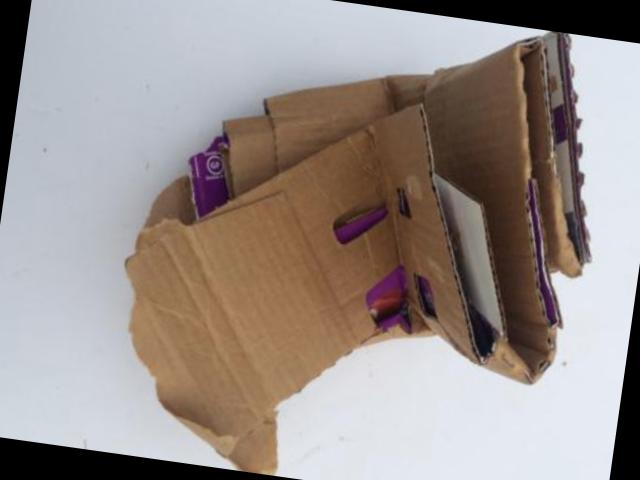cardboard paper: (127, 30, 591, 476)
